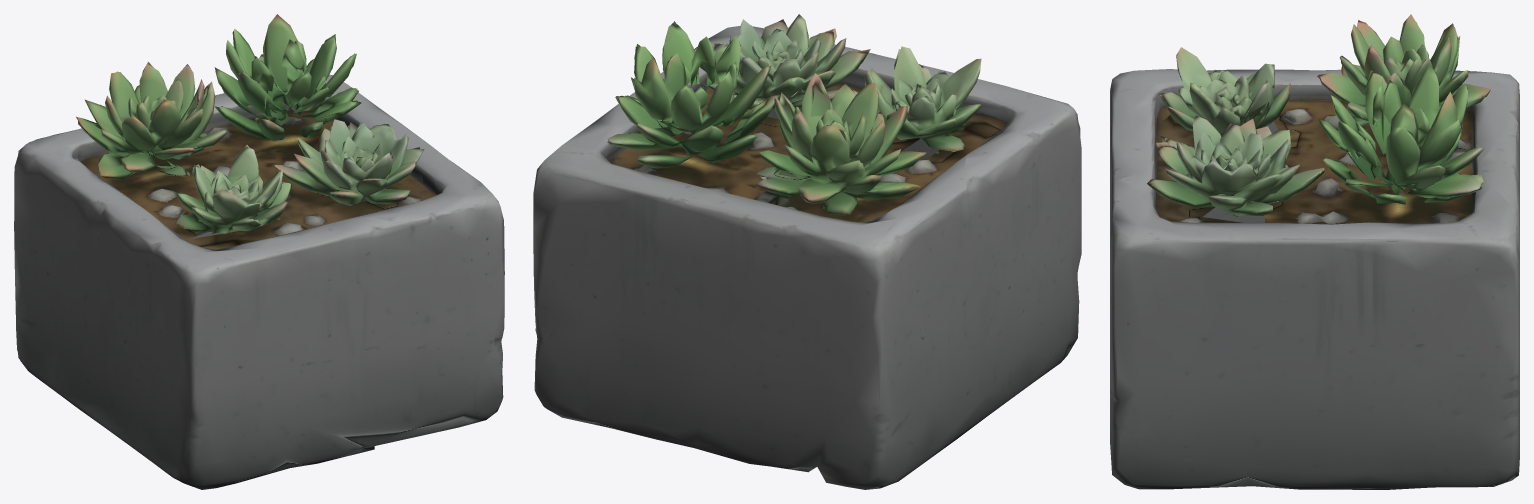
The model's file is studentcafe_PlantPot.glb.
3 views of the same model, side by side, from view 1: azimuth 30°, elevation 25°; view 2: azimuth 150°, elevation 25°; view 3: azimuth 270°, elevation 25° (orthographic). The views are drawn at different scales.
Visible parts, largest first — view 1: world; view 2: world; view 3: world.
Part boxes in pixels (x1,y1,x2,y2): world: [14, 14, 504, 489]; world: [533, 14, 1081, 489]; world: [1110, 14, 1519, 489].
Size of the model in its own units: 0.9932 by 0.9621 by 0.9901.
1 material, 1 textured.
